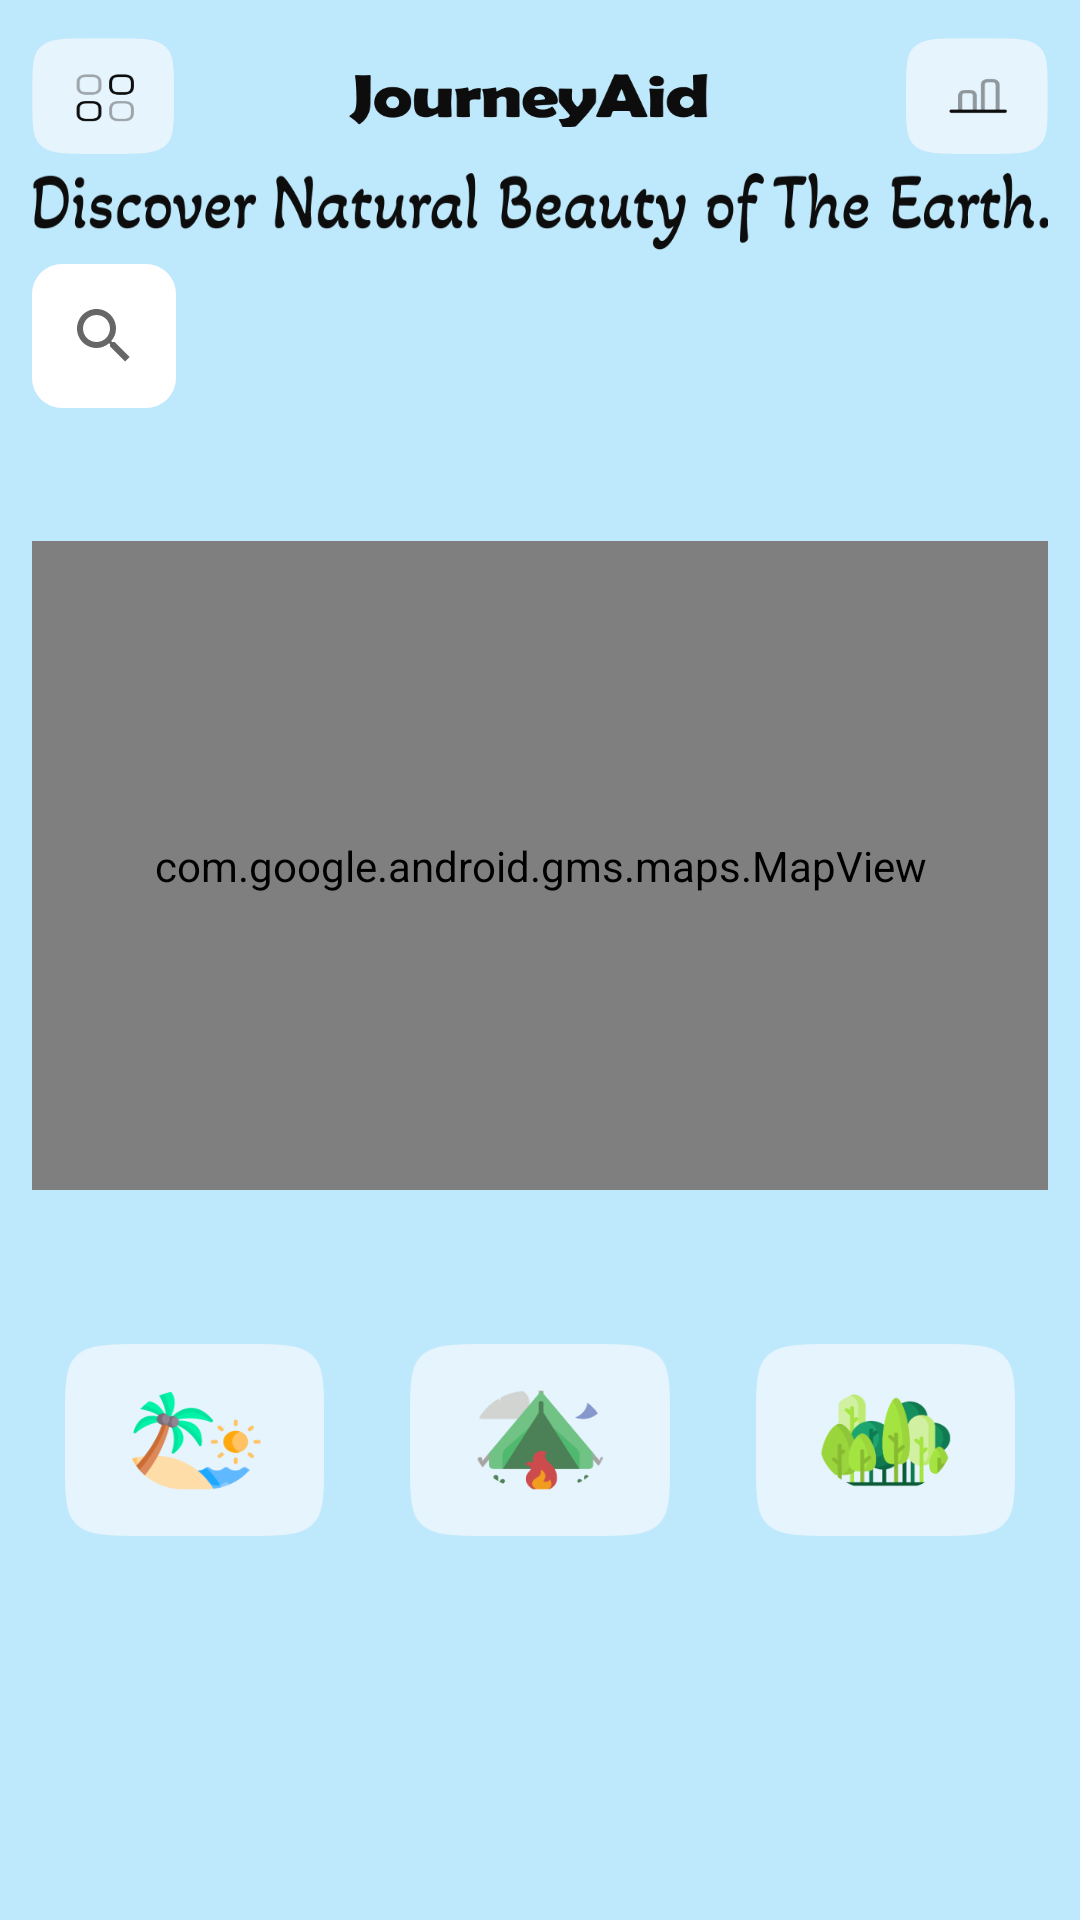

Icons on this 1080*1920 Android screen, each with its box as [x1,y1,x2,y2]:
visitingplaces: [65,1344,324,1536]
